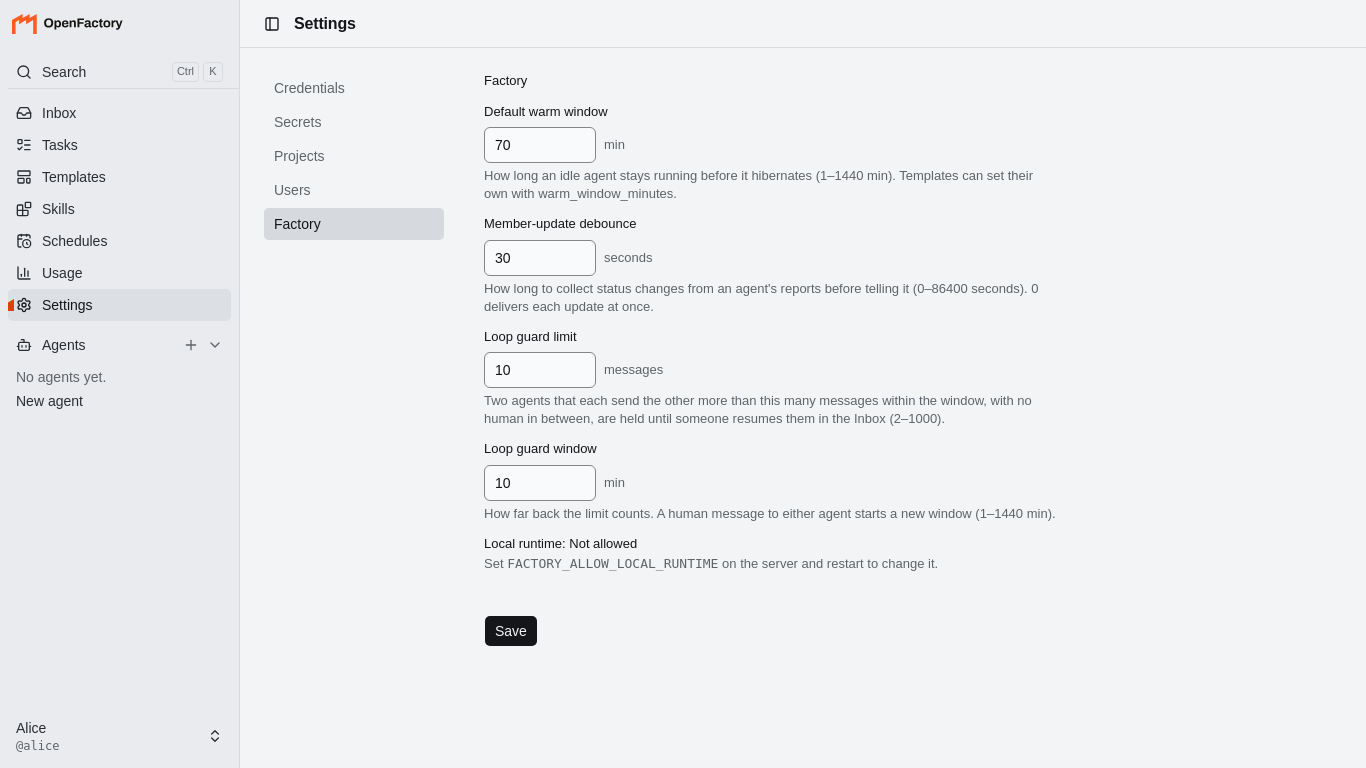
Scenario: Save sends only the changed fields and shows Saved.
The image size is (1366, 768).
Replace the text in the number field labelled "Default warm window" with "120" at (540, 145), box top-left (484, 127), bottom-right (596, 163)
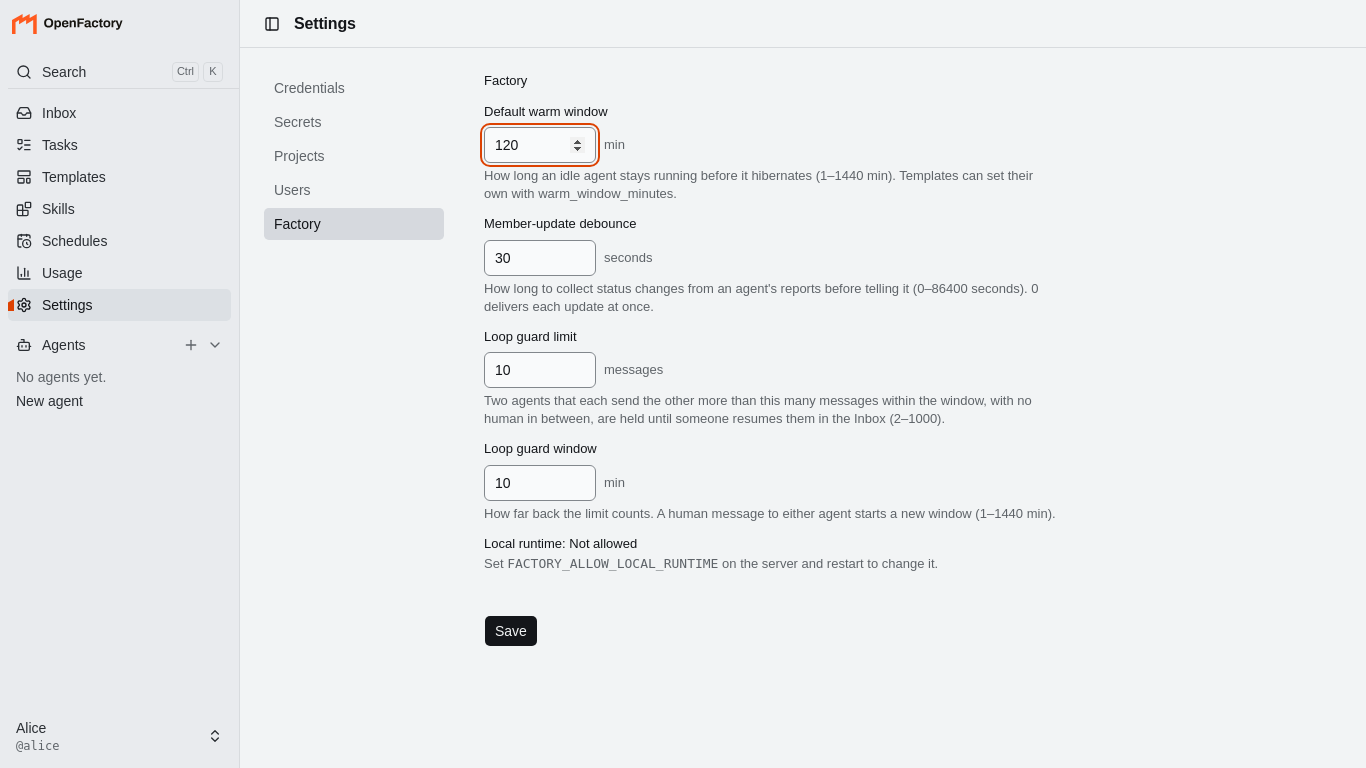
Click the button "Save" at (511, 631), box top-left (484, 615), bottom-right (538, 647)
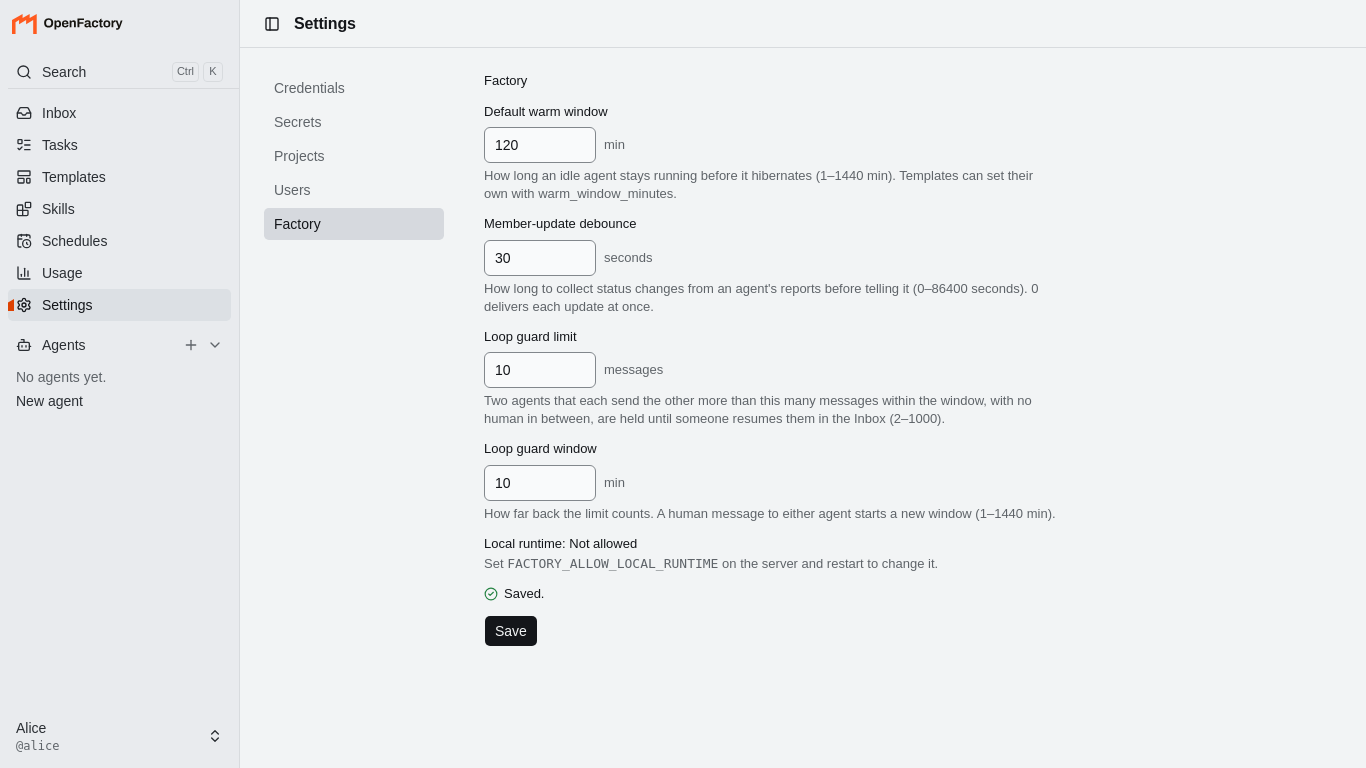
Editing again clears the outcome.
Type "1" into the number field labelled "Default warm window" at (540, 145), box top-left (484, 127), bottom-right (596, 163)
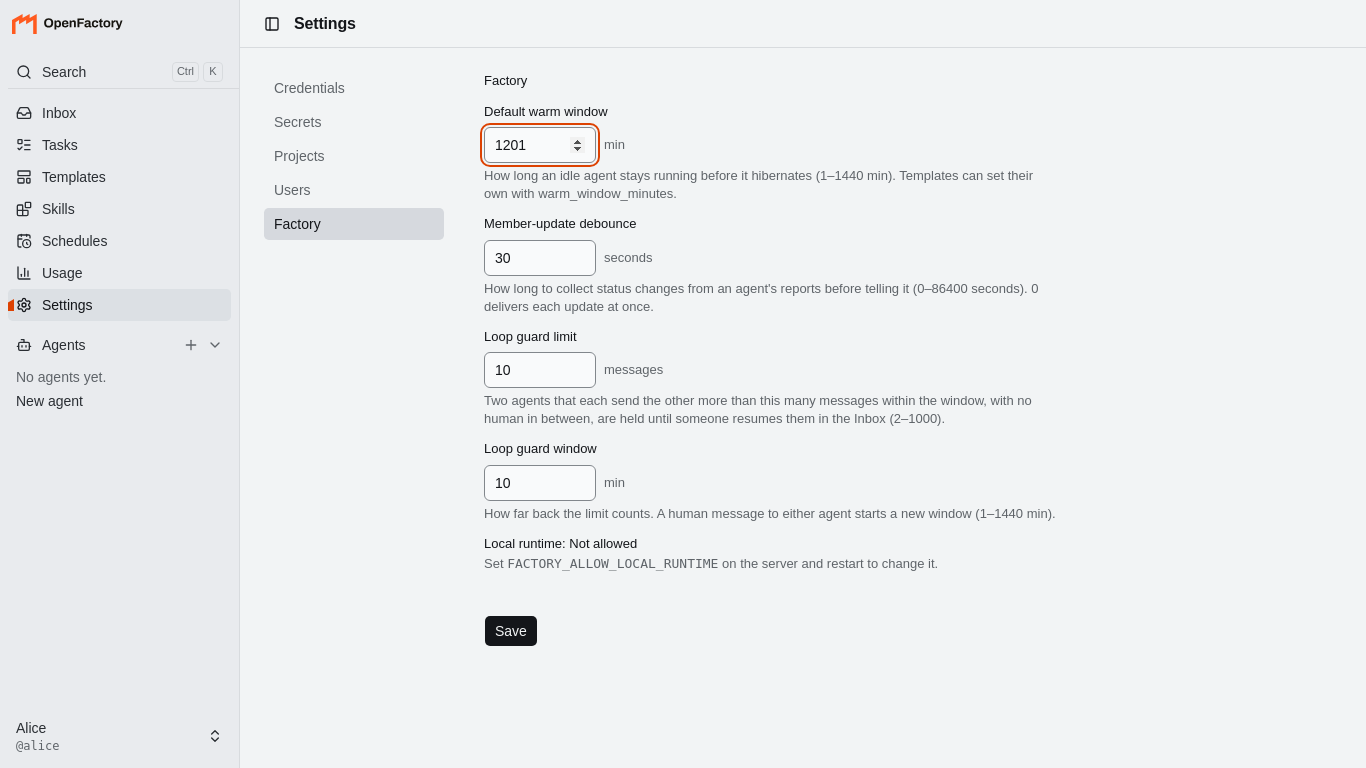
Now the text "Saved." is gone
